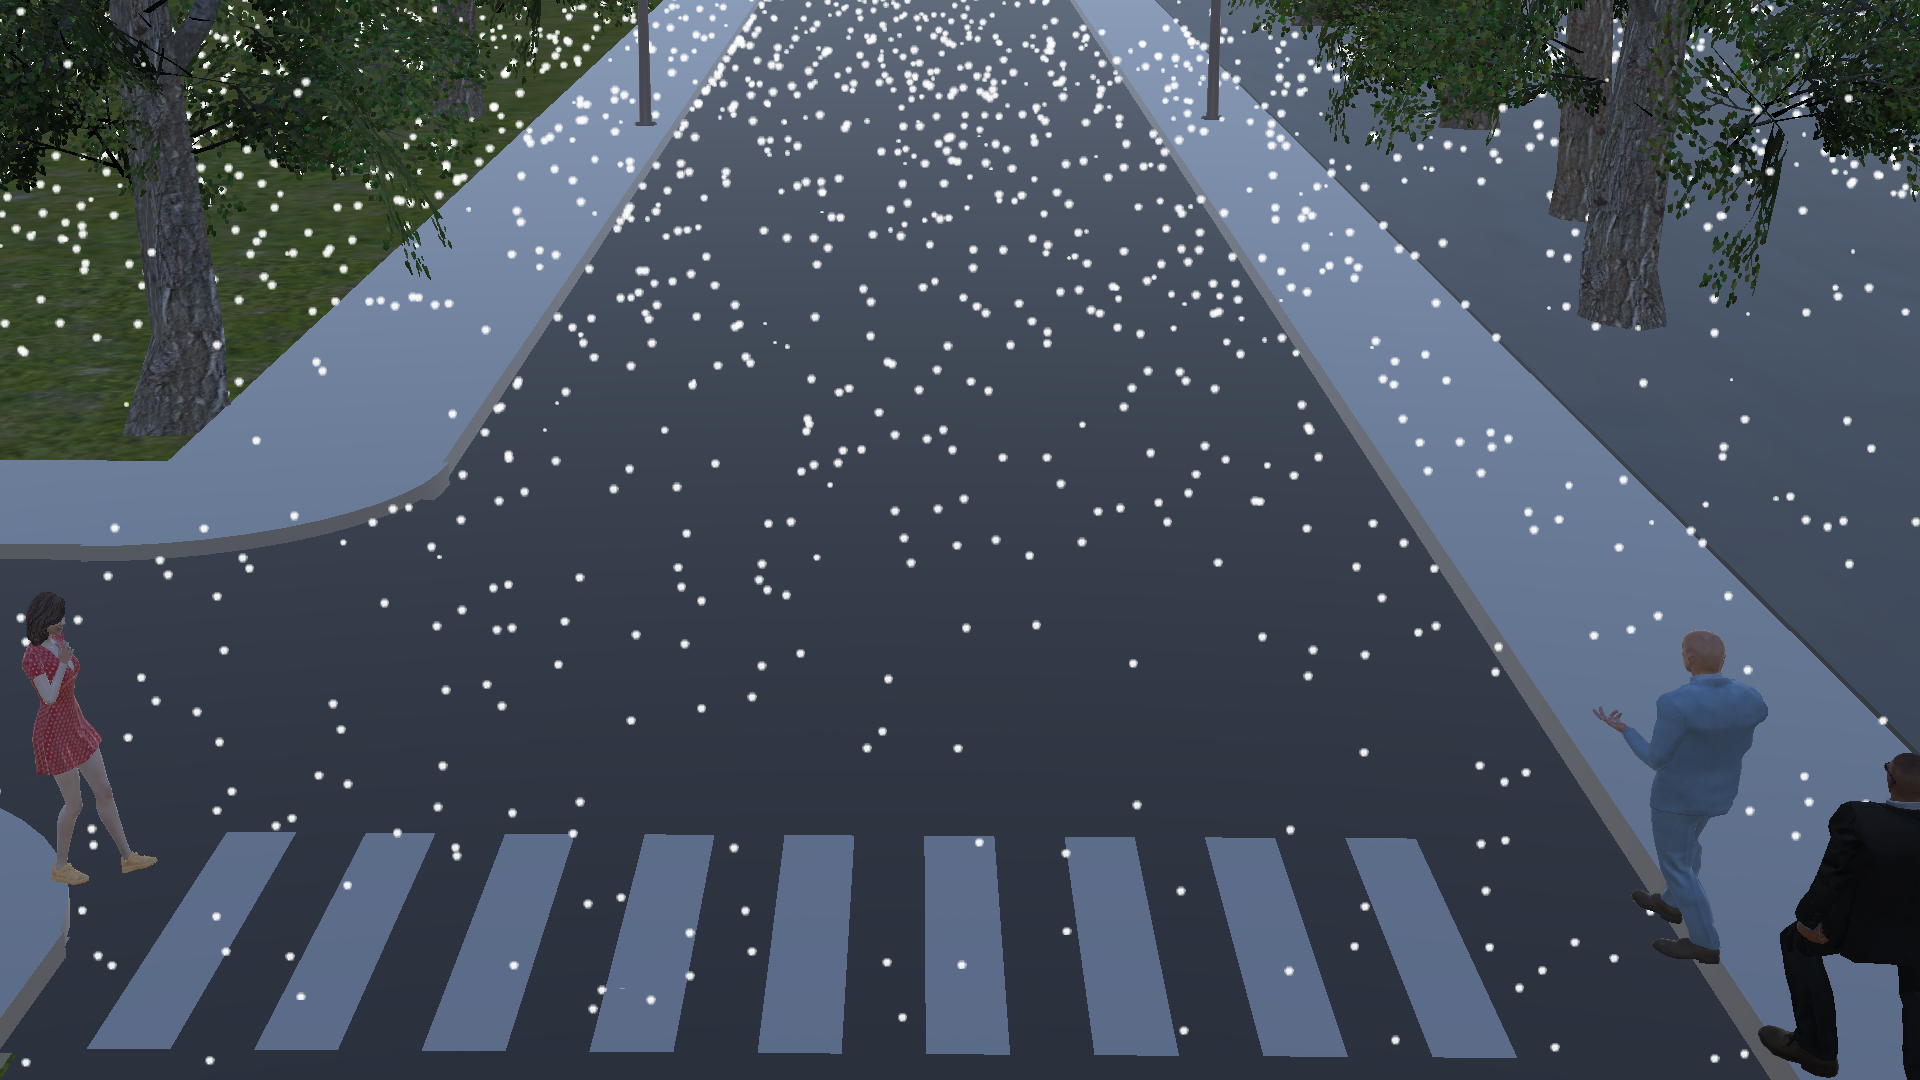pedestrian: (1744, 734, 1920, 1078), (1589, 618, 1750, 989), (1, 586, 170, 912)
